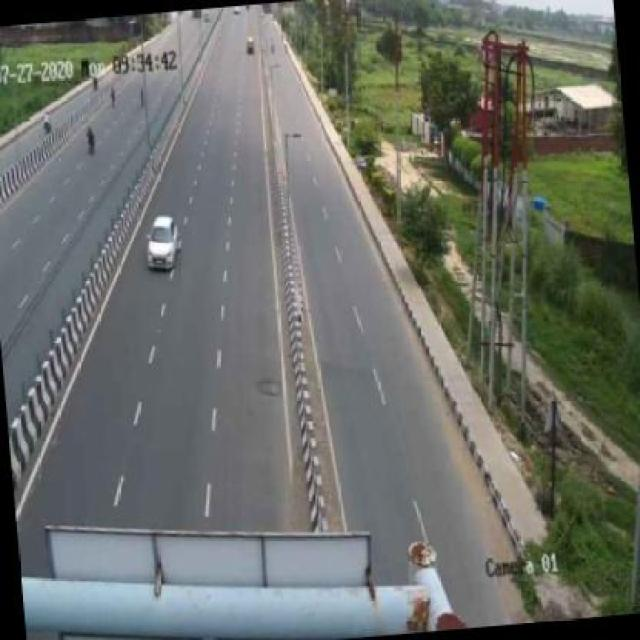car: (143, 214, 183, 275)
